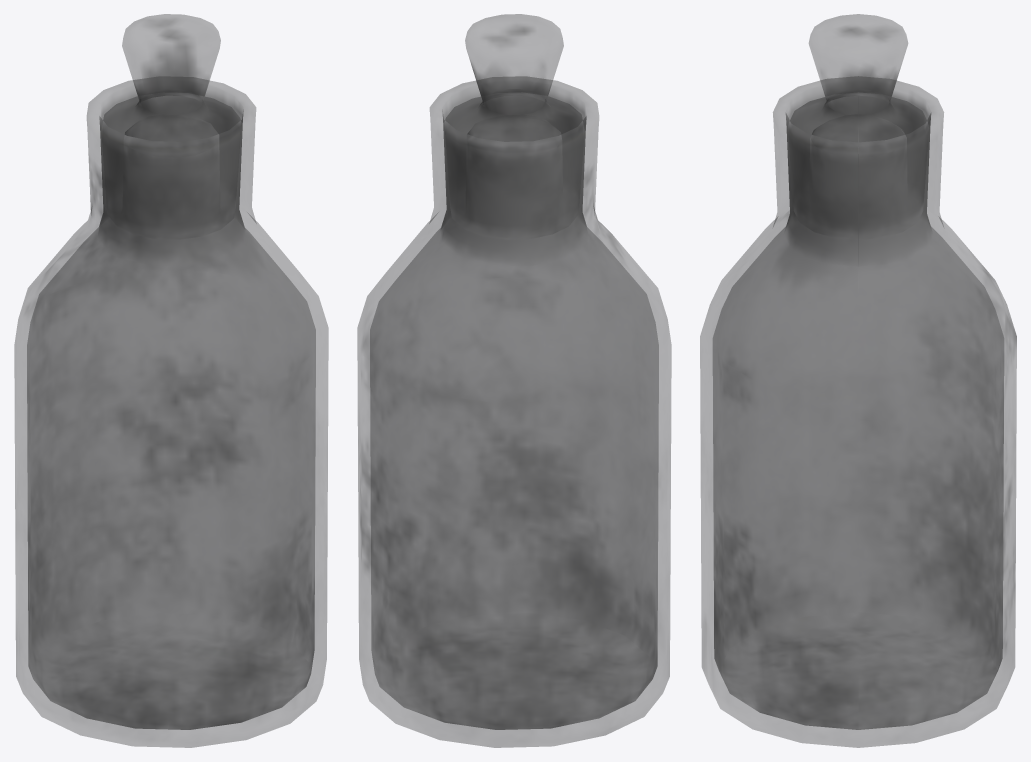
File: bottle_clear_c.glb
3 renders of one model, left to right at view 1: azimuth 30°, elevation 25°; view 2: azimuth 150°, elevation 25°; view 3: azimuth 270°, elevation 25°, orthographic.
Visible parts, largest first — view 1: chemistry_set_bottle_clear_c.001, chemistry_set_bottle_clear_c_lid.001; view 2: chemistry_set_bottle_clear_c.001, chemistry_set_bottle_clear_c_lid.001; view 3: chemistry_set_bottle_clear_c.001, chemistry_set_bottle_clear_c_lid.001.
Part boxes in pixels (<box>): chemistry_set_bottle_clear_c.001: <box>14,78,328,747</box>; chemistry_set_bottle_clear_c_lid.001: <box>102,14,240,238</box>; chemistry_set_bottle_clear_c.001: <box>357,76,671,747</box>; chemistry_set_bottle_clear_c_lid.001: <box>444,14,583,237</box>; chemistry_set_bottle_clear_c.001: <box>700,78,1016,747</box>; chemistry_set_bottle_clear_c_lid.001: <box>788,14,928,235</box>.
Bounding box in the file's own units: 0.0496 × 0.1141 × 0.0496.
Materials: 1 (1 with a texture image).
